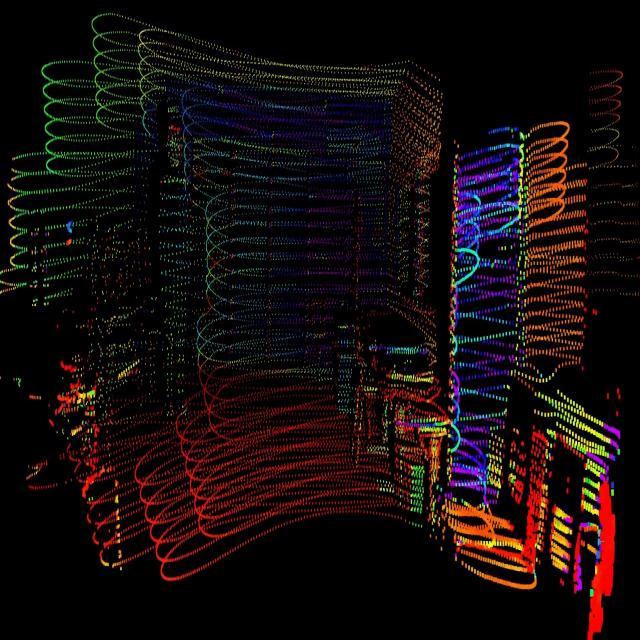human: (148, 95, 209, 421)
